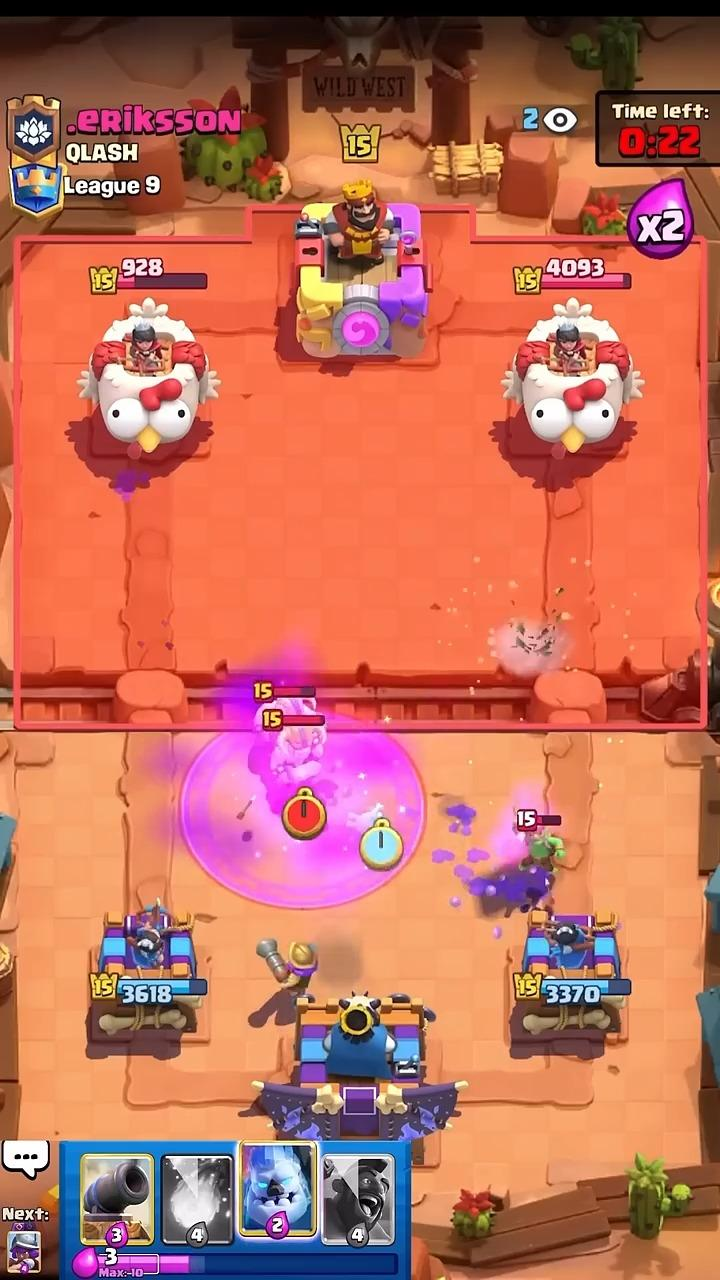elite barbarians: (265, 697, 326, 788)
musketeer: (256, 939, 316, 996)
rage: (177, 716, 425, 909)
spear goblin: (520, 829, 564, 880)
